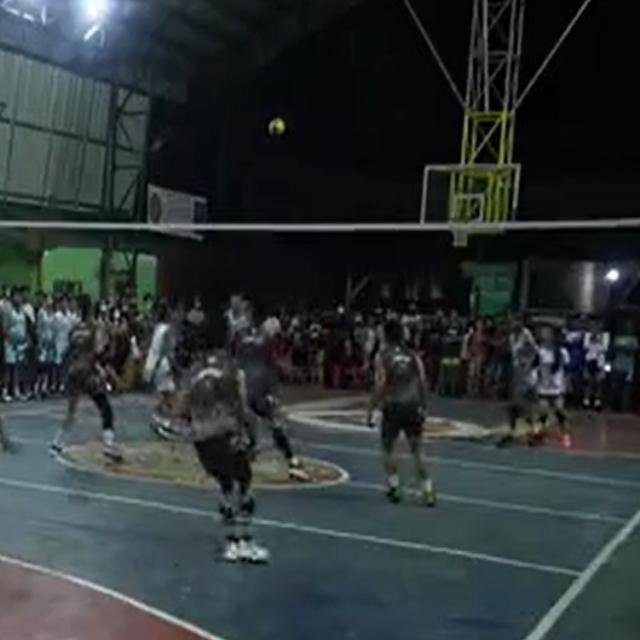volleyball: (268, 118, 286, 136)
